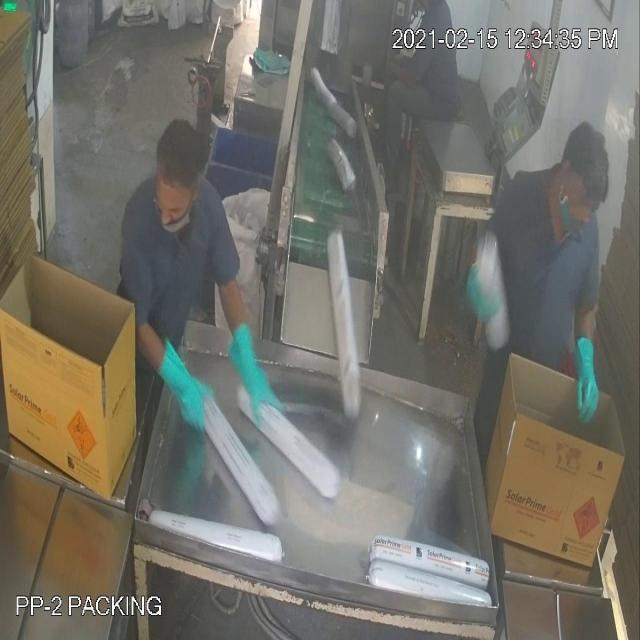Gloves: (38, 106, 586, 388)
